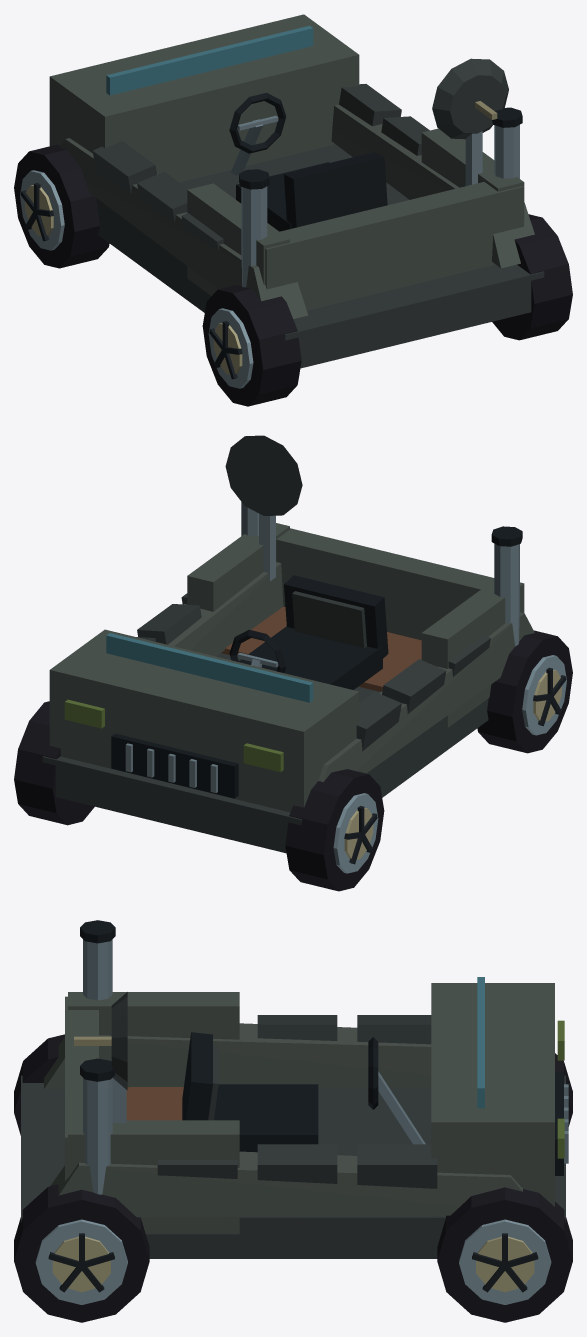
Rendered from kart.glb.
3 renders of one model, top to bottom at view 1: azimuth 30°, elevation 25°; view 2: azimuth 150°, elevation 25°; view 3: azimuth 270°, elevation 25°, orthographic. The views are drawn at different scales.
Visible parts, largest first — view 1: identity-truck-truck-utility-body, wheel-rear-left, identity-truck-driver-cockpit, wheel-front-left, identity-truck-motif-armor, identity-truck-motif-radar, wheel-rear-right, identity-truck-motif-exhaust; view 2: identity-truck-truck-utility-body, identity-truck-driver-cockpit, wheel-front-left, wheel-rear-left, identity-truck-motif-armor, identity-truck-motif-radar, wheel-front-right, identity-truck-motif-exhaust; view 3: identity-truck-truck-utility-body, wheel-front-right, wheel-rear-right, identity-truck-motif-armor, identity-truck-driver-cockpit, identity-truck-motif-exhaust, identity-truck-motif-radar, wheel-rear-left.
Part boxes in pixels (x1=…): identity-truck-truck-utility-body: x1=49, y1=14, x2=544, y2=368; wheel-rear-left: x1=202, y1=285, x2=301, y2=406; identity-truck-driver-cockpit: x1=229, y1=92, x2=387, y2=231; wheel-front-left: x1=14, y1=144, x2=109, y2=268; identity-truck-motif-armor: x1=92, y1=84, x2=429, y2=250; identity-truck-motif-radar: x1=432, y1=58, x2=508, y2=185; wheel-rear-right: x1=492, y1=214, x2=572, y2=340; identity-truck-motif-exhaust: x1=239, y1=107, x2=522, y2=287; identity-truck-truck-utility-body: x1=42, y1=523, x2=534, y2=853; identity-truck-driver-cockpit: x1=229, y1=575, x2=388, y2=689; wheel-front-left: x1=285, y1=769, x2=384, y2=891; wheel-rear-left: x1=477, y1=630, x2=572, y2=753; identity-truck-motif-armor: x1=136, y1=593, x2=490, y2=751; identity-truck-motif-radar: x1=225, y1=435, x2=302, y2=581; wheel-front-right: x1=14, y1=701, x2=94, y2=825; identity-truck-motif-exhaust: x1=241, y1=502, x2=522, y2=646; identity-truck-truck-utility-body: x1=21, y1=977, x2=568, y2=1258; wheel-front-right: x1=437, y1=1187, x2=572, y2=1322; wheel-rear-right: x1=14, y1=1184, x2=149, y2=1322; identity-truck-motif-armor: x1=157, y1=1015, x2=437, y2=1188; identity-truck-driver-cockpit: x1=182, y1=1032, x2=425, y2=1152; identity-truck-motif-exhaust: x1=80, y1=920, x2=115, y2=1194; identity-truck-motif-radar: x1=74, y1=992, x2=127, y2=1122; wheel-rear-left: x1=14, y1=1034, x2=64, y2=1135.
Size of the model in its own units: 2.13 by 1.65 by 2.8.
